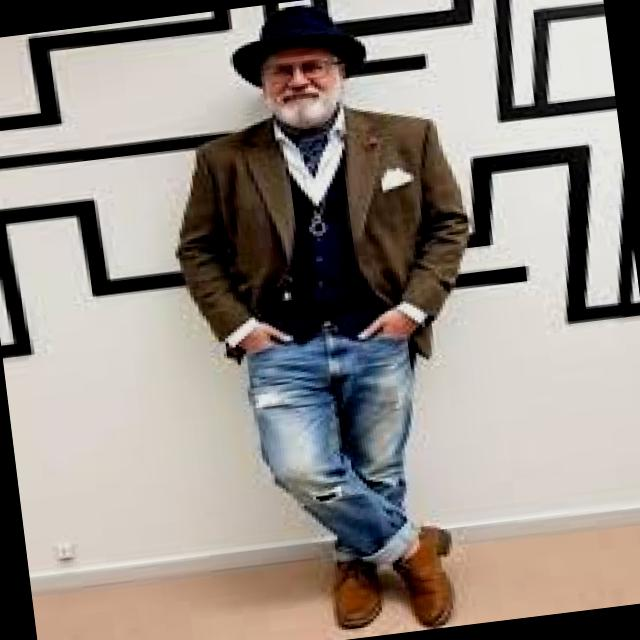hat: (234, 6, 366, 87)
lower-wear: (247, 331, 419, 564)
